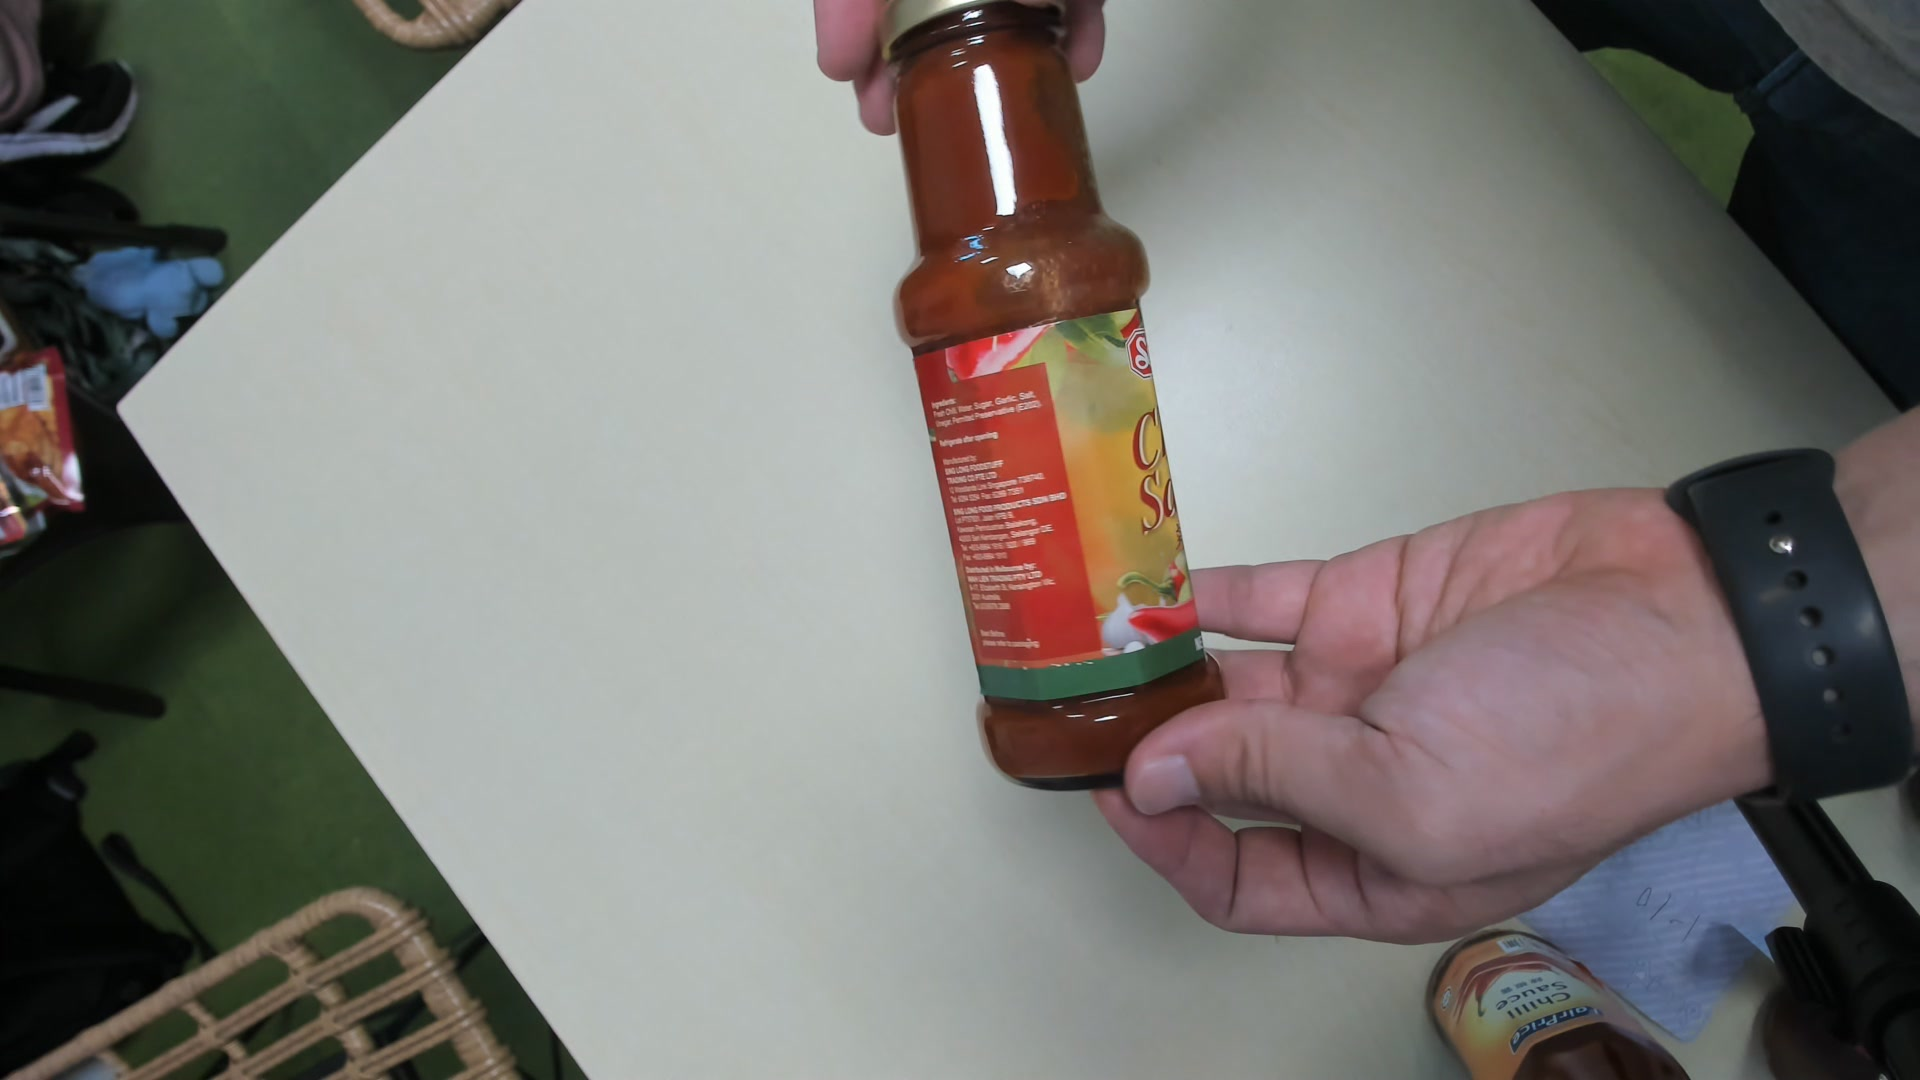KetchupChillSauce_200-299g_Halal_NonHealthy: (872, 1, 1233, 791)
